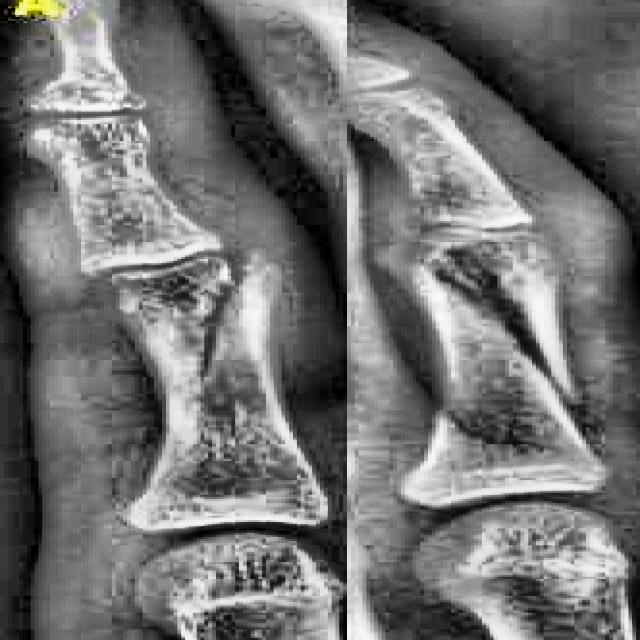fracture: (436, 242, 582, 415), (158, 242, 270, 457)
